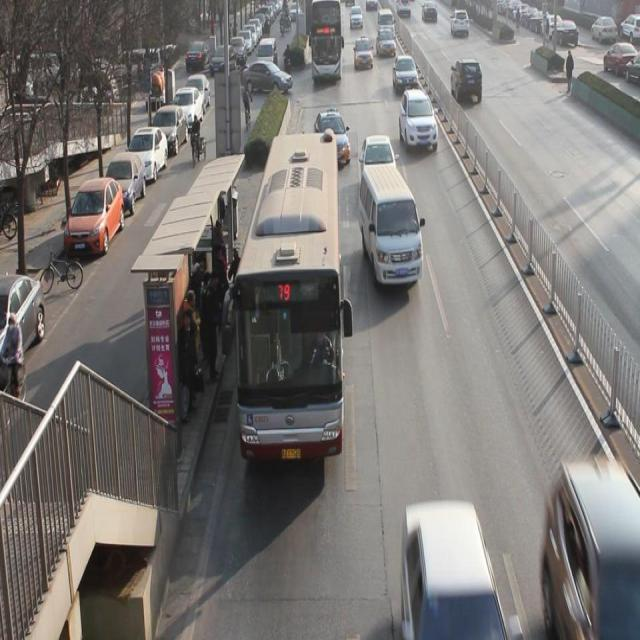car: (552, 470, 640, 630), (405, 509, 503, 629), (399, 94, 438, 150), (315, 112, 352, 168), (362, 138, 396, 193), (447, 61, 485, 108), (393, 60, 419, 92), (376, 29, 396, 62), (354, 40, 374, 71)
truck: (361, 172, 424, 297)
van: (234, 138, 344, 465), (310, 1, 340, 82)
